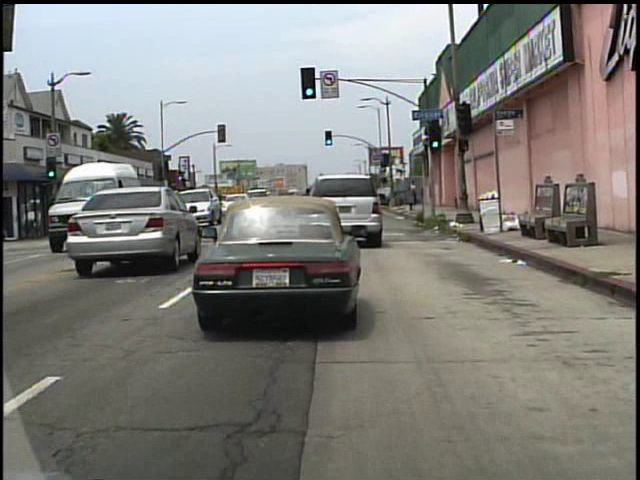person: (410, 180, 421, 207)
